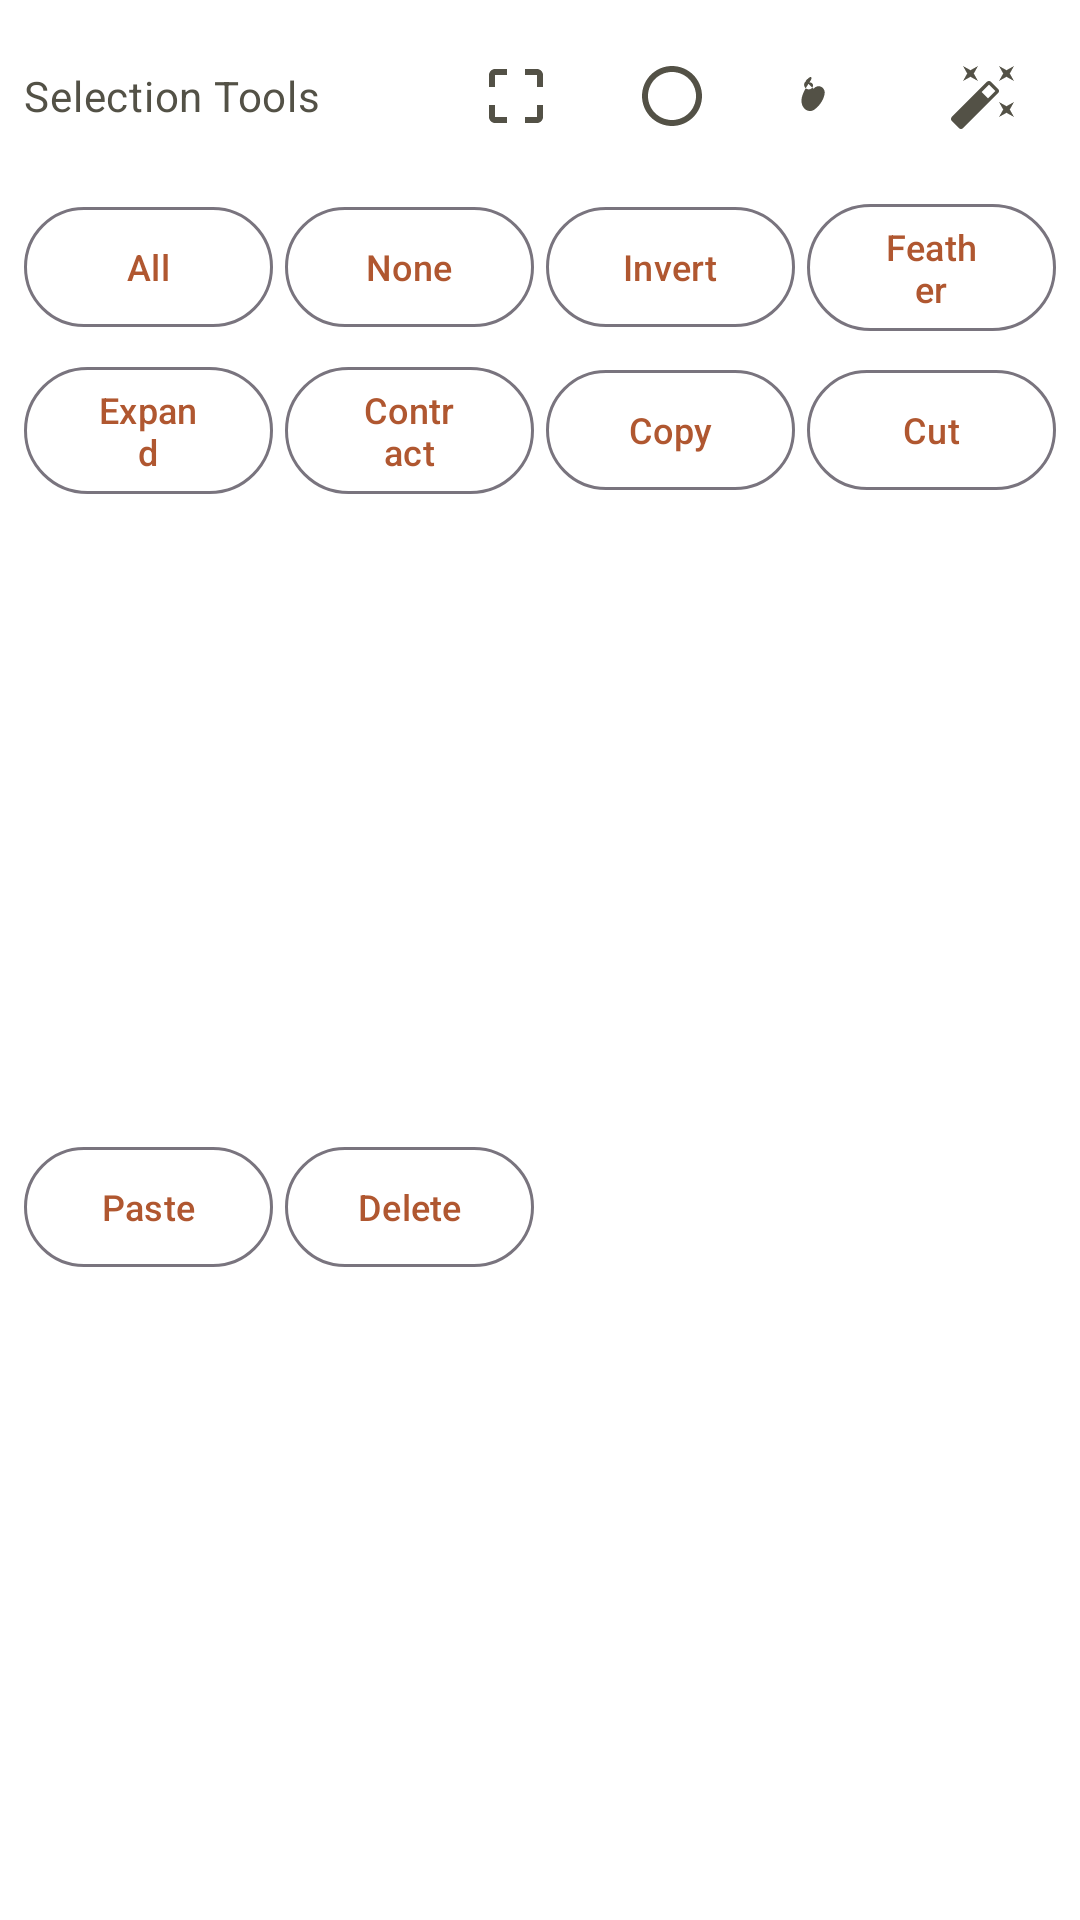

Icon bounding boxes for this 1080px×1920px phone screenshot, format region(x1, y1, x2, y2):
Elliptical Selection: region(642, 66, 702, 126)
Freehand Selection: region(801, 77, 825, 111)
Magic Wand: region(951, 66, 1014, 129)
Rectangular Selection: region(489, 69, 543, 123)
